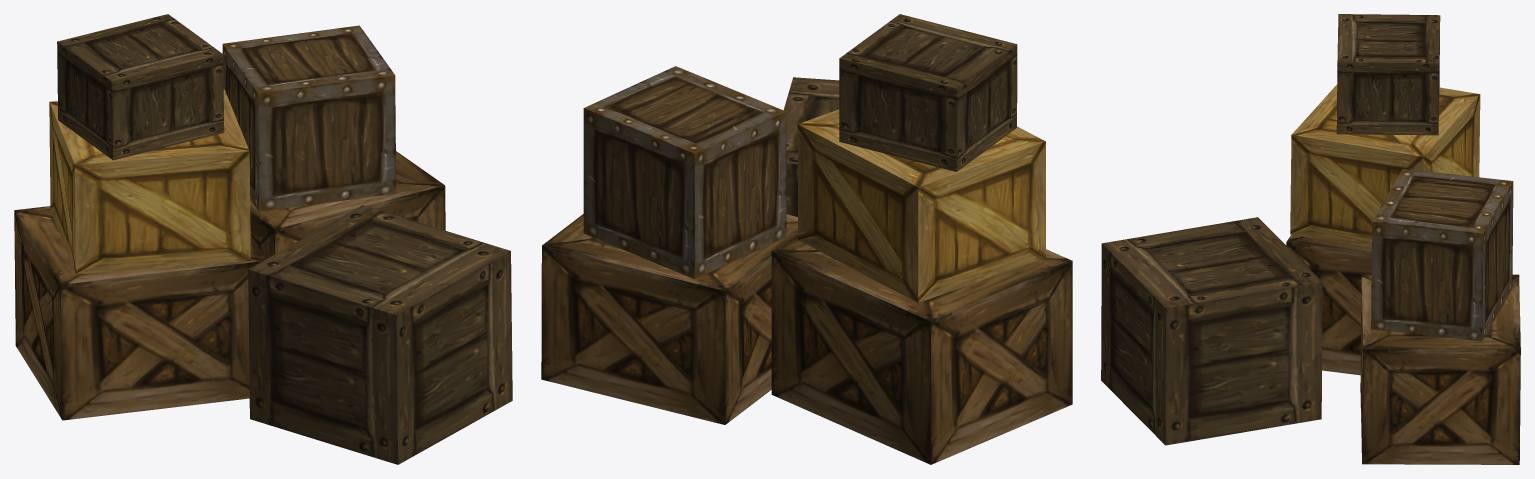
The model's file is SM_Town005_Cubes.FBX.
3 renders of one model, left to right at view 1: azimuth 30°, elevation 25°; view 2: azimuth 150°, elevation 25°; view 3: azimuth 270°, elevation 25°, orthographic. The views are drawn at different scales.
Visible parts, largest first — view 1: SM_Town005_Cubes; view 2: SM_Town005_Cubes; view 3: SM_Town005_Cubes.
Boxes of the visible parts, x1=… form: SM_Town005_Cubes: x1=14, y1=14, x2=512, y2=464; SM_Town005_Cubes: x1=541, y1=14, x2=1072, y2=464; SM_Town005_Cubes: x1=1101, y1=14, x2=1520, y2=464.
Size of the model in its own units: 363 by 363 by 286.
Materials: 4 (4 with a texture image).
